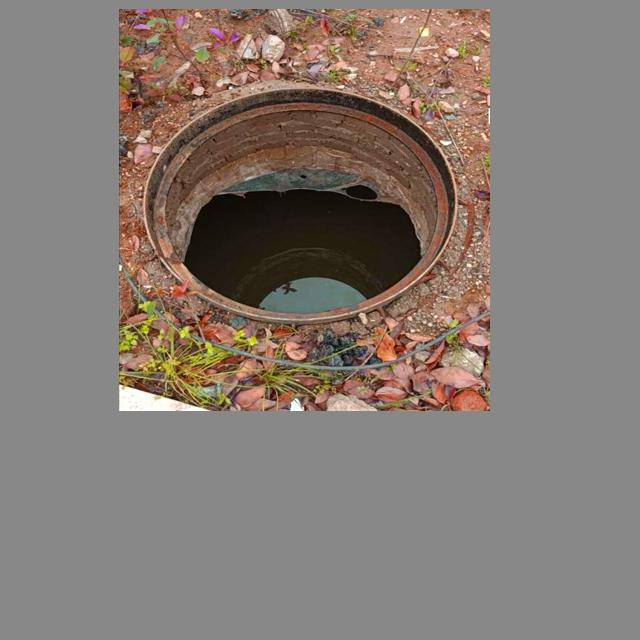lose: (141, 81, 462, 326)
